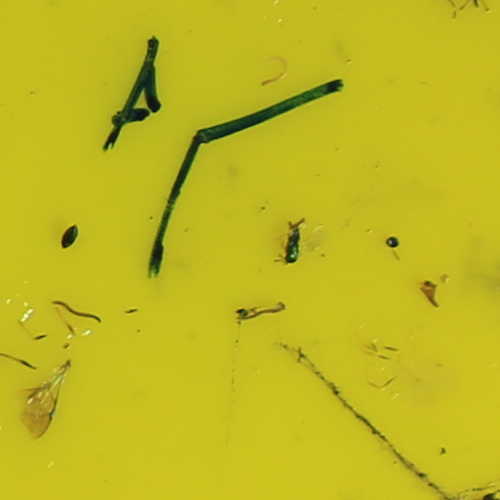Psyllaephagus: (282, 227, 306, 263)
